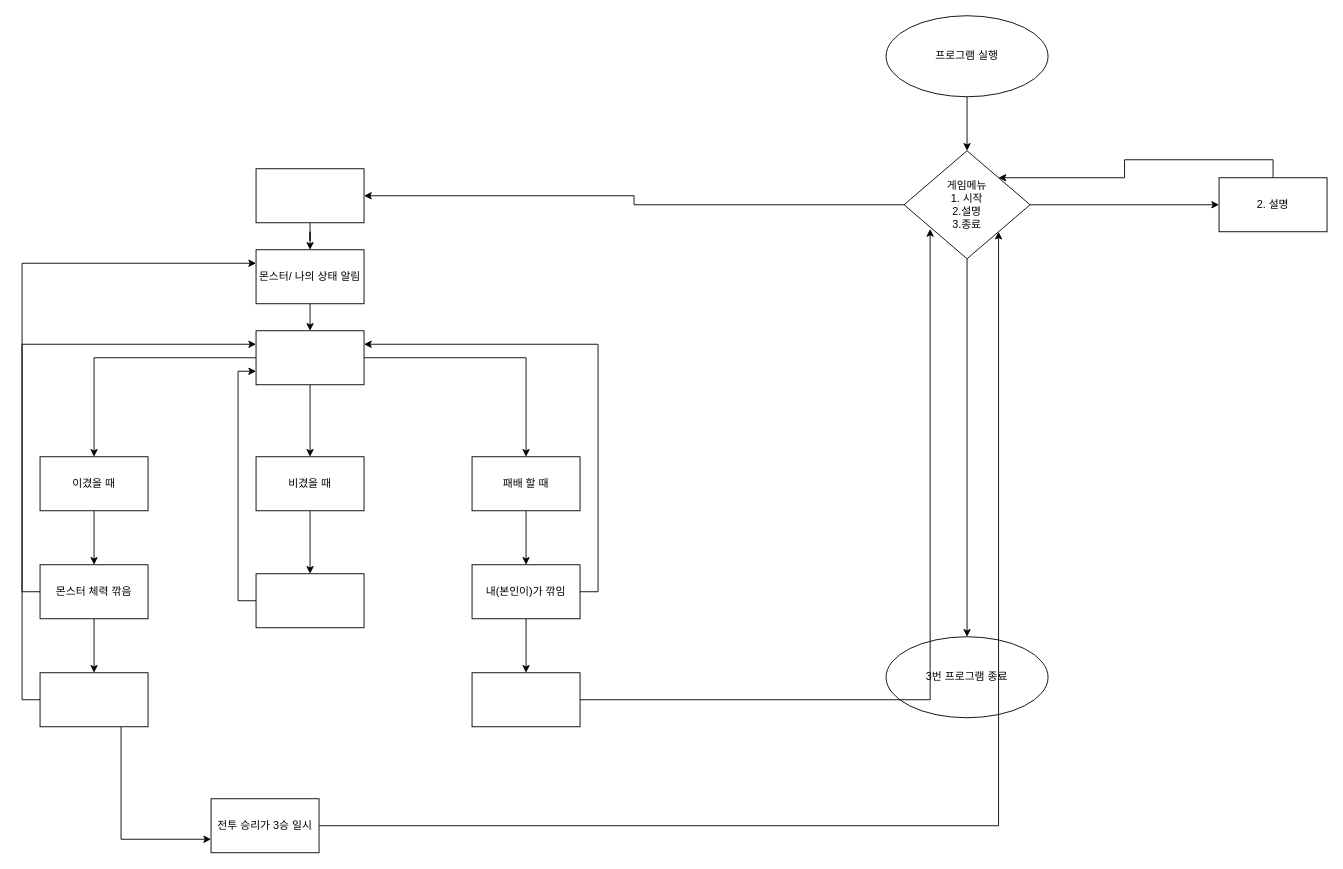
Image size: 1343x869. Some labels were removed from this diagram. Here are the shapes that lost their labels. From the top down, the box of each, then its label:
(255, 168, 364, 223): 1. 시작
(255, 330, 364, 385): 가위바위보 행동 선택
(255, 573, 364, 628): 피해 효과 두배 적용 시키기
(39, 672, 148, 727): 승리 문구
(471, 672, 580, 727): 패배문구 알리고 재도전 안내
